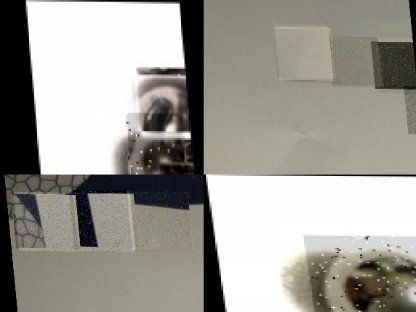ironball: (299, 235, 415, 311), (122, 112, 183, 174), (130, 70, 188, 135)
